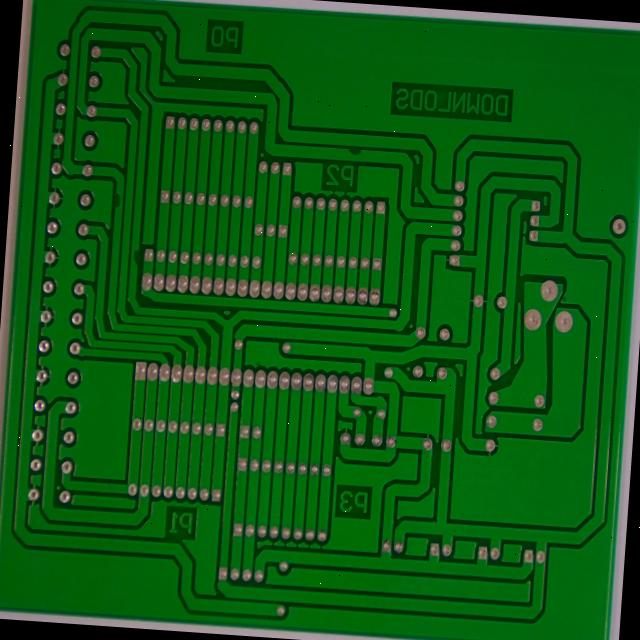mouse_bite: (137, 204, 154, 231), (369, 91, 390, 110), (119, 142, 133, 168)
